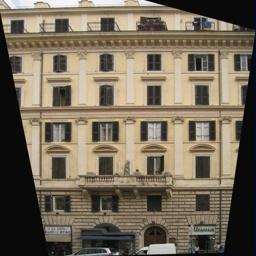building: (30, 5, 224, 253)
